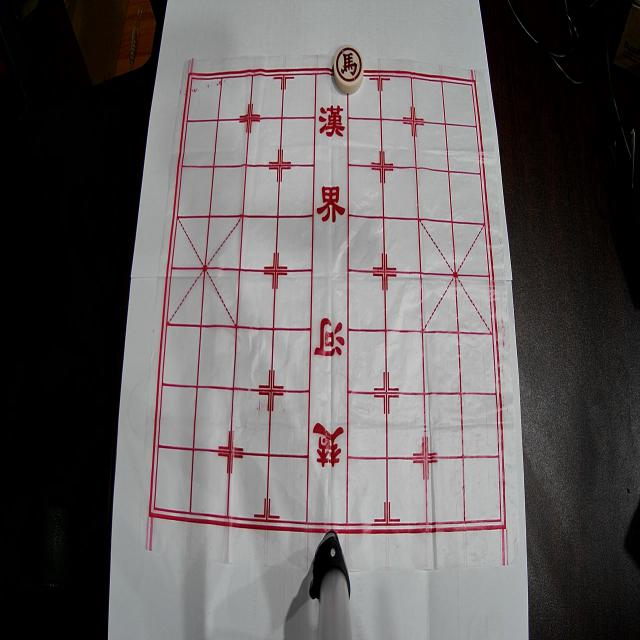red-horse: (334, 45, 364, 93)
